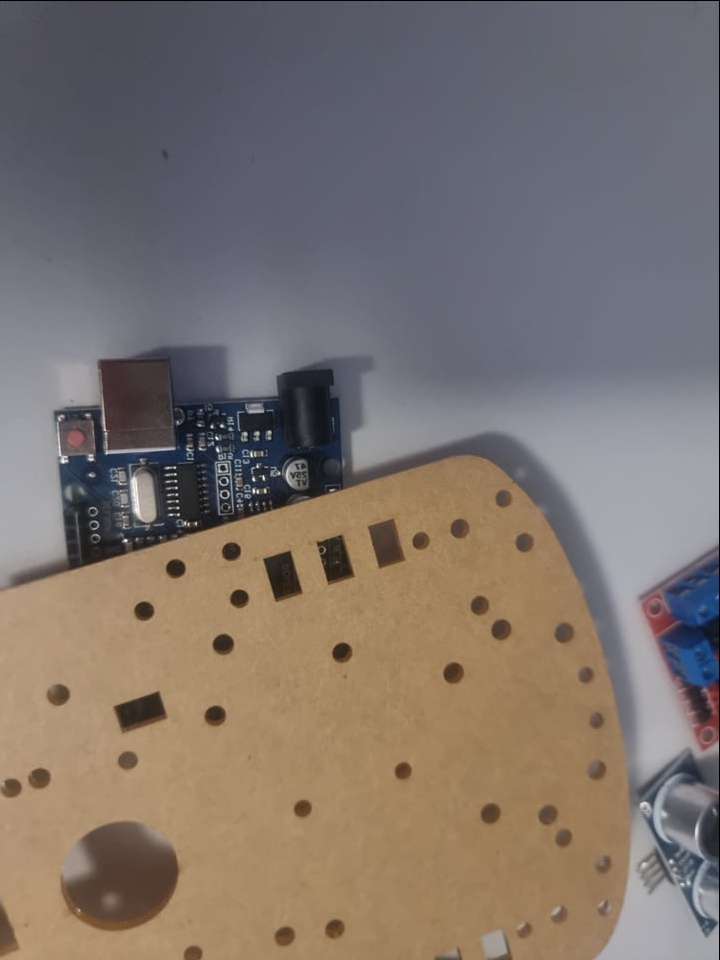UNO R3: (53, 358, 356, 572)
